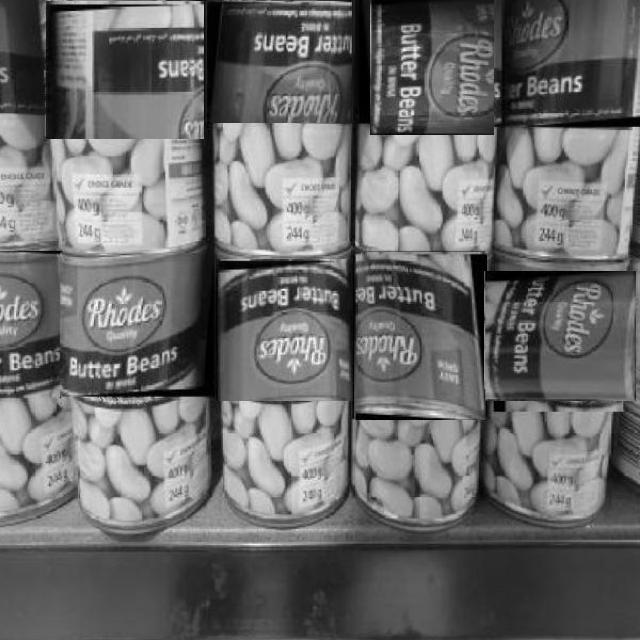Beans: (60, 254, 216, 399), (353, 252, 487, 420), (46, 0, 204, 139), (483, 271, 636, 401), (215, 258, 353, 401), (205, 0, 352, 123), (502, 0, 640, 129), (369, 0, 494, 135), (0, 252, 63, 400)
